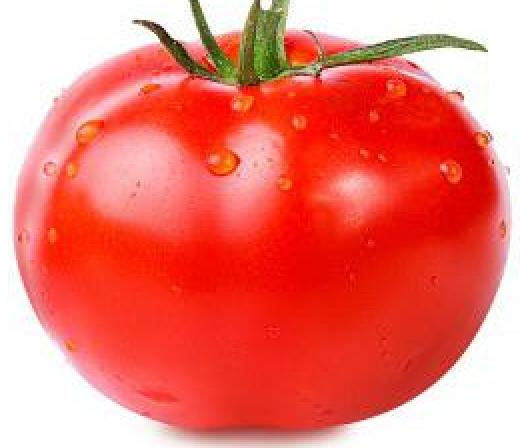tomato: (16, 28, 505, 432)
